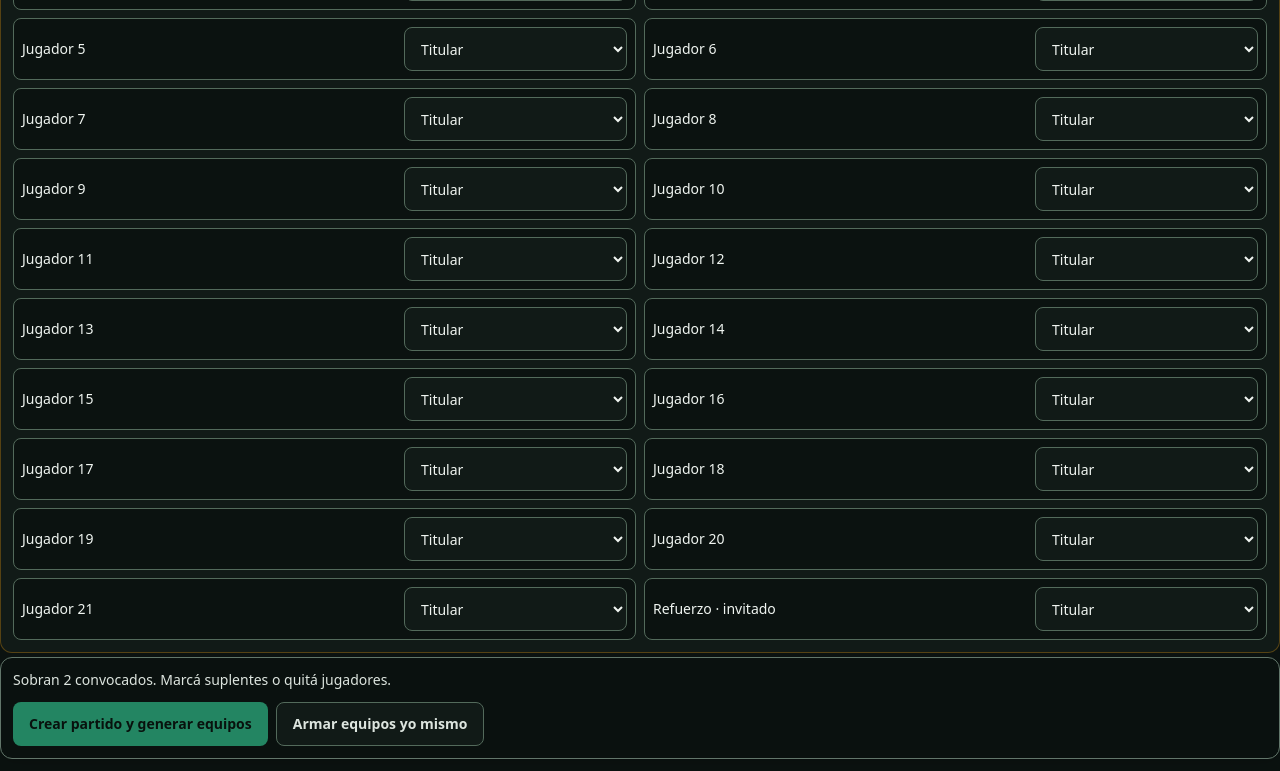
Test: NewMatchForm › permite suplentes sin equipo, conserva todos los convocados y excluye suplentes del armado manual
This screenshot has width=1280, height=771.
(page scrolled)
Expected: the button "Crear partido y generar equipos" is disabled, [13,702,268,746]
Select "Suplente · sin equipo" in the dropdown named "Rol de Jugador 21" at (516, 609), box [404,587,627,631]
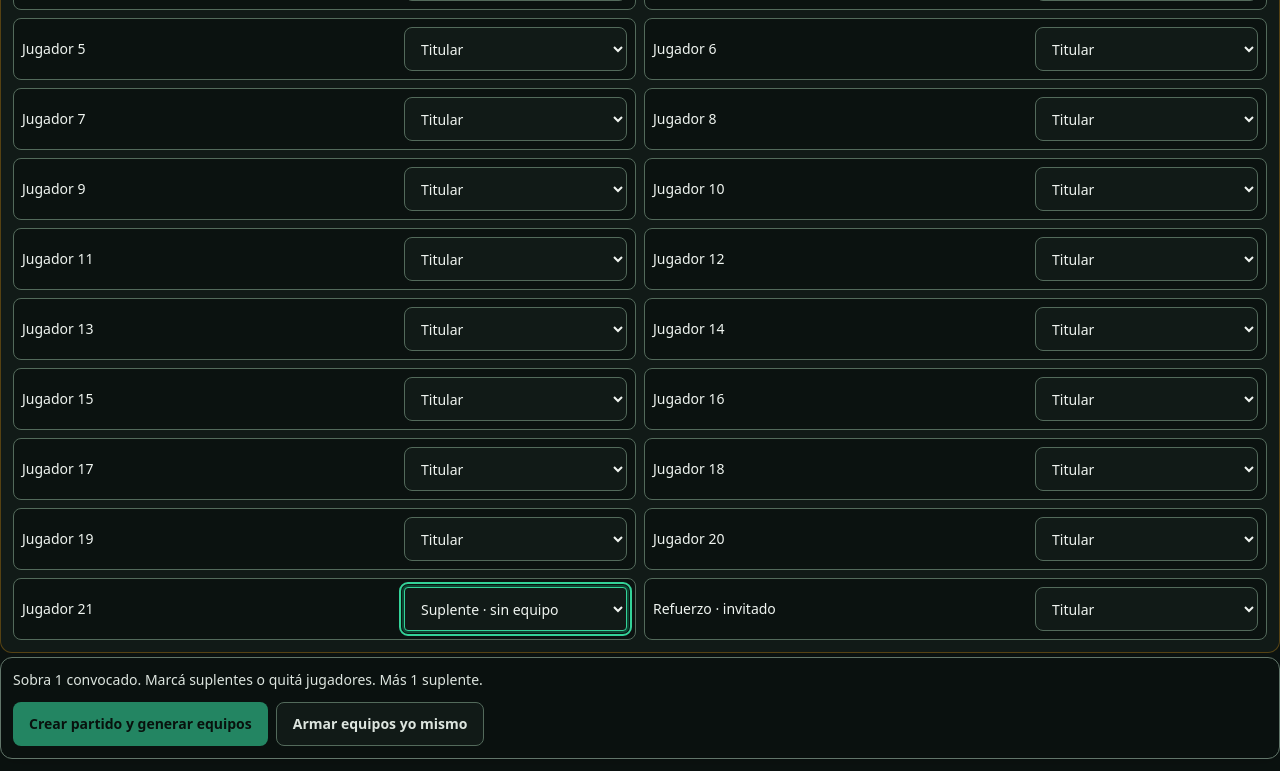
Select "Suplente · segundo equipo" in the dropdown named "Rol de Refuerzo" at (1146, 609), box [1035,587,1258,631]
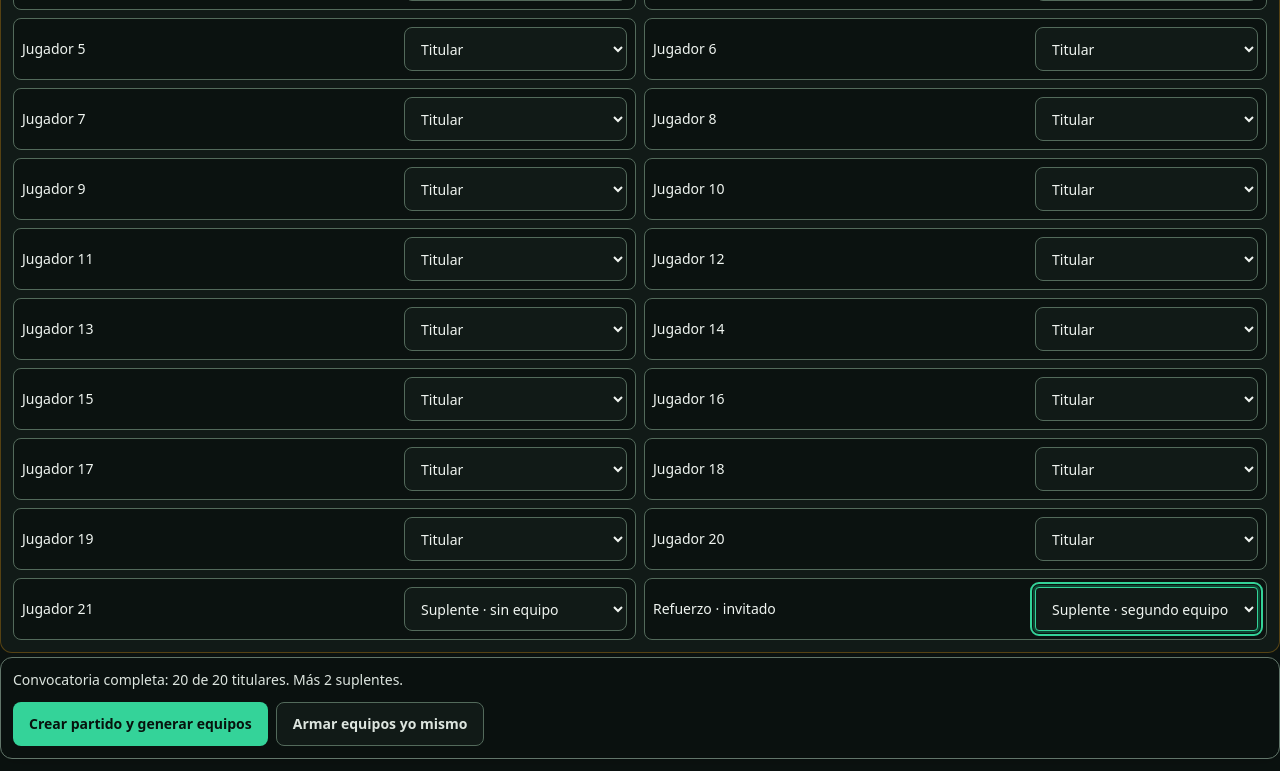
Now the button "Crear partido y generar equipos" is enabled, box [13,702,268,746]
Now the message shows "20 de 20 titulares. Más 2 suplentes", box [13,670,403,689]
Click the button "Armar equipos yo mismo".
click(380, 724)  # box [276,702,484,746]
(page scrolled)
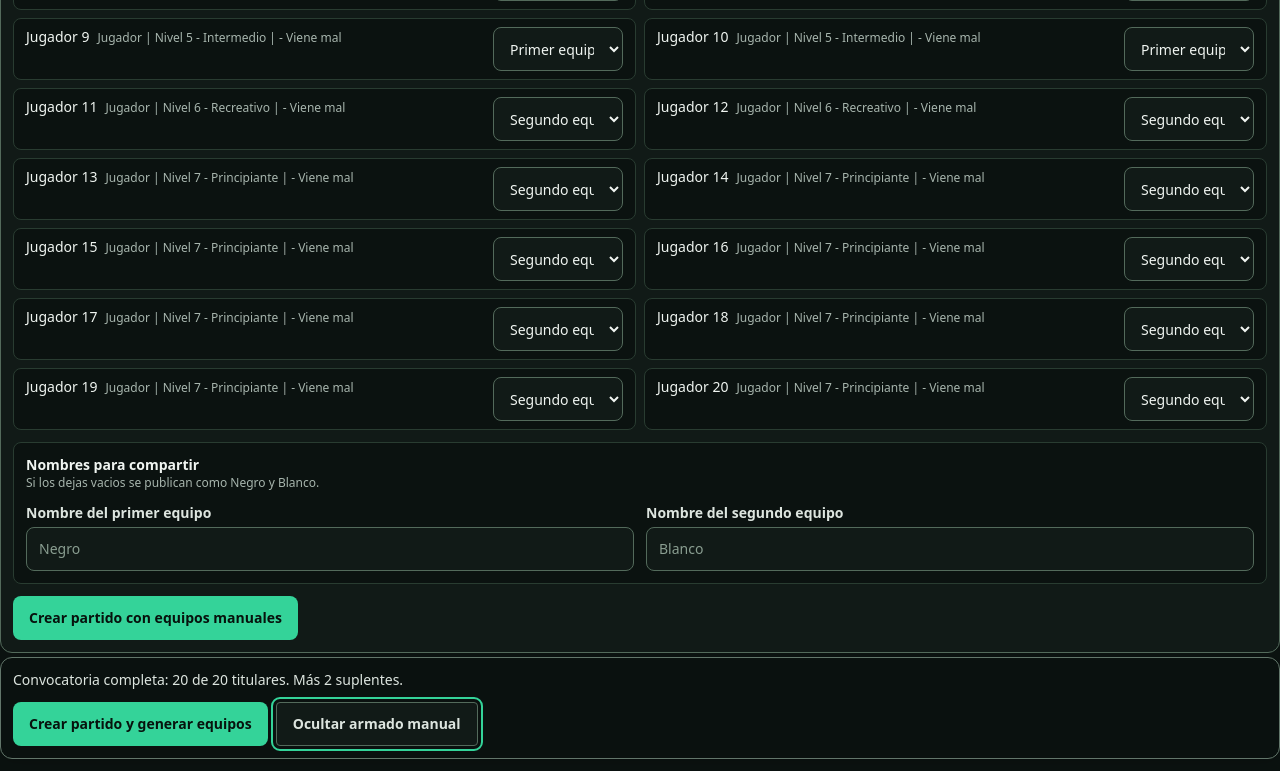
Now the button "Crear partido con equipos manuales" is enabled, box [13,596,298,640]
